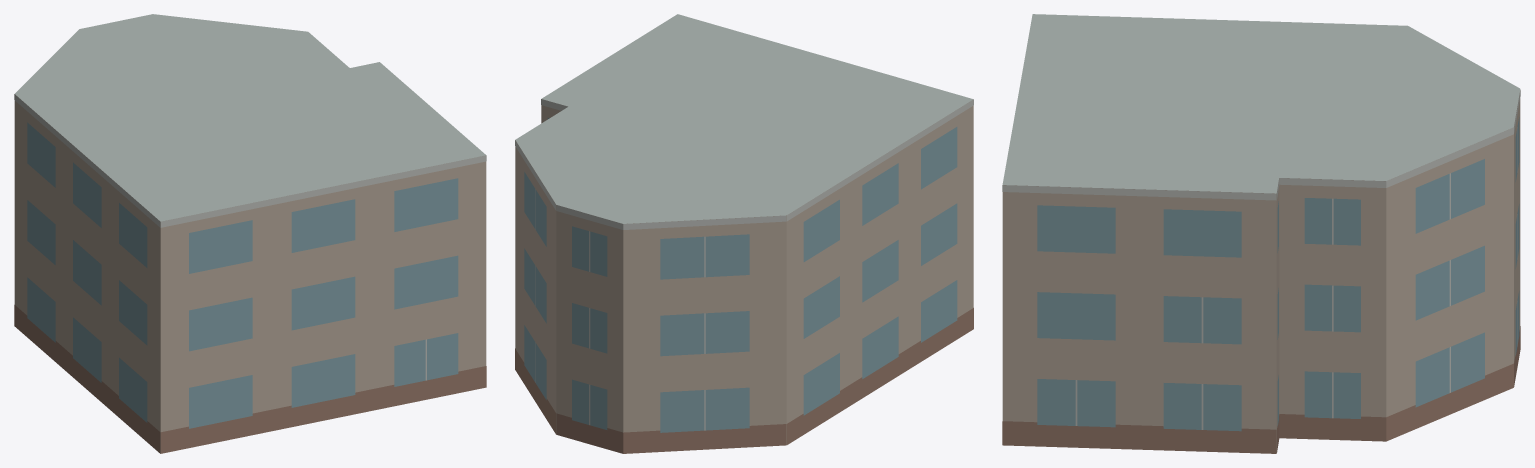
Rendered from survey-upis-32856480.glb.
3 views of the same model, side by side, from view 1: azimuth 30°, elevation 25°; view 2: azimuth 150°, elevation 25°; view 3: azimuth 270°, elevation 25° (orthographic). The views are drawn at different scales.
Visible parts, largest first — view 1: survey-upis-32856480.tmp; view 2: survey-upis-32856480.tmp; view 3: survey-upis-32856480.tmp.
Part boxes in pixels (x1,y1,x2,y2): survey-upis-32856480.tmp: [14, 14, 486, 453]; survey-upis-32856480.tmp: [515, 14, 973, 453]; survey-upis-32856480.tmp: [1002, 14, 1520, 453].
Bounding box in the file's own units: 13.47 × 9.1 × 16.42.
